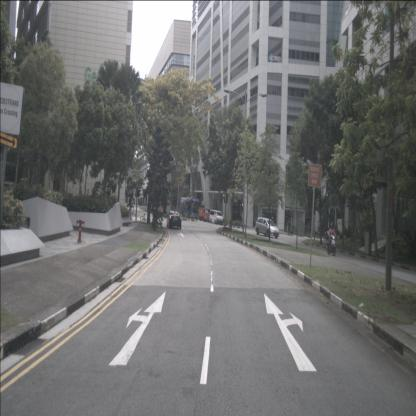vehicle-bicycle: (140, 213, 151, 224)
vehicle-bus-rigid: (180, 198, 201, 218)
vehicle-car: (255, 217, 280, 238), (167, 210, 181, 230), (209, 210, 224, 224), (198, 208, 210, 222)
vehicle-motorcycle: (326, 223, 337, 257)
